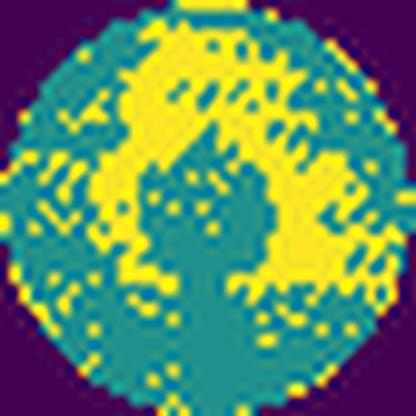Donut: (84, 20, 408, 314)
